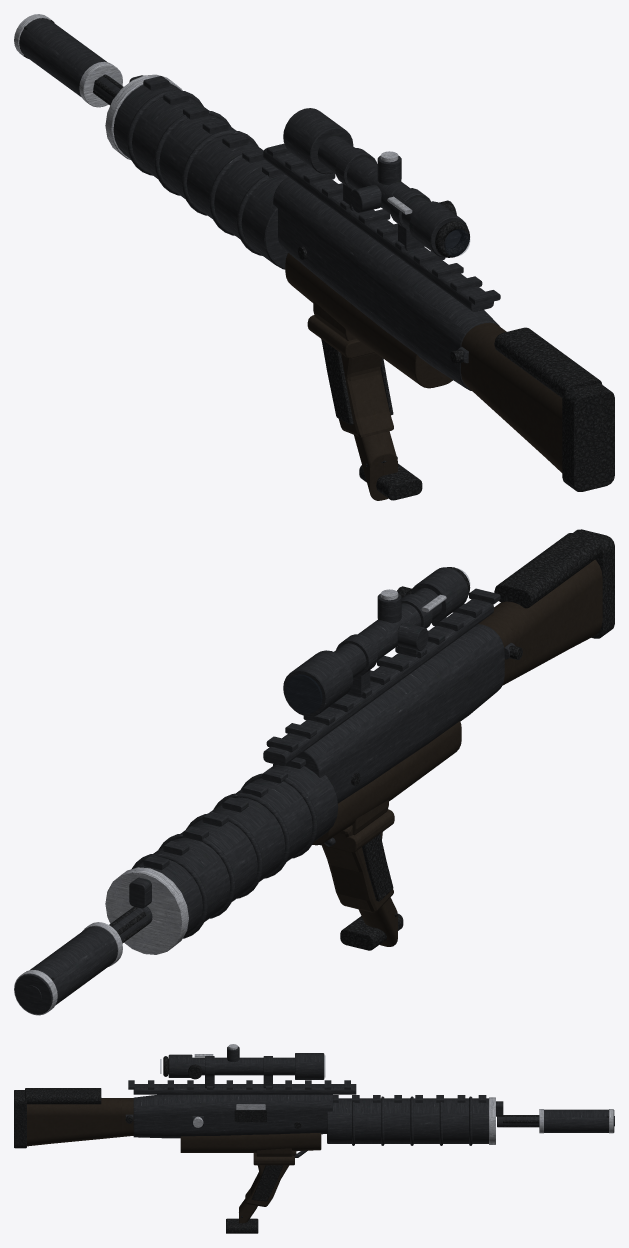
Rendered from vanguard.gltf.
3 views of the same model, one above another, from view 1: azimuth 30°, elevation 25°; view 2: azimuth 150°, elevation 25°; view 3: azimuth 270°, elevation 25° (orthographic). The views are drawn at different scales.
Parts seen in each view (by area): view 1: body, optic, mag; view 2: body, optic, mag; view 3: body, optic, mag.
Boxes of the visible parts, x1,y1,x2,y2 form: body: (14,14,614,491); optic: (283,108,469,257); mag: (354,431,422,500); body: (14,529,614,1015); optic: (283,567,470,716); mag: (340,897,403,950); body: (14,1080,614,1206); optic: (160,1044,325,1088); mag: (226,1199,258,1233).
Size of the model in its own units: 0.0846 by 0.3511 by 1.02.
5 materials, 5 textured.
